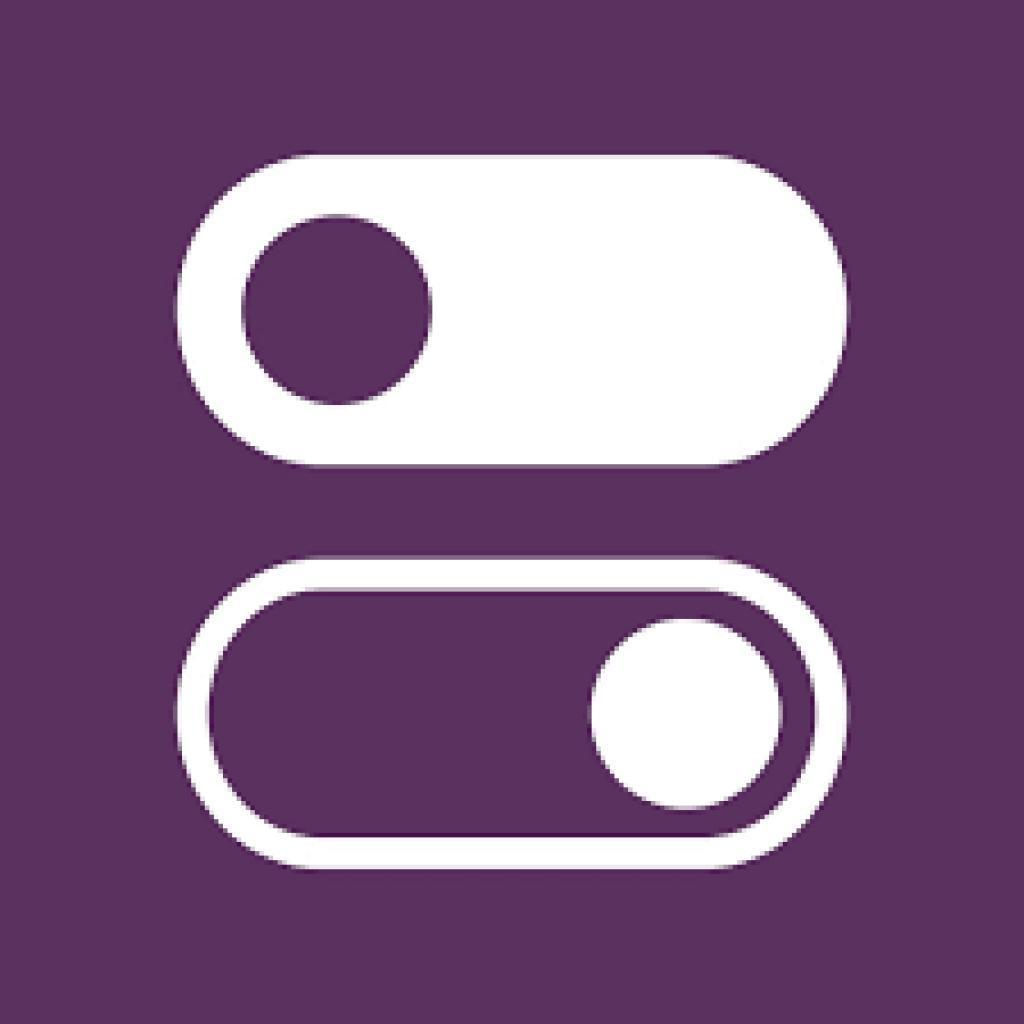switch: (171, 142, 866, 478), (159, 554, 846, 869)
